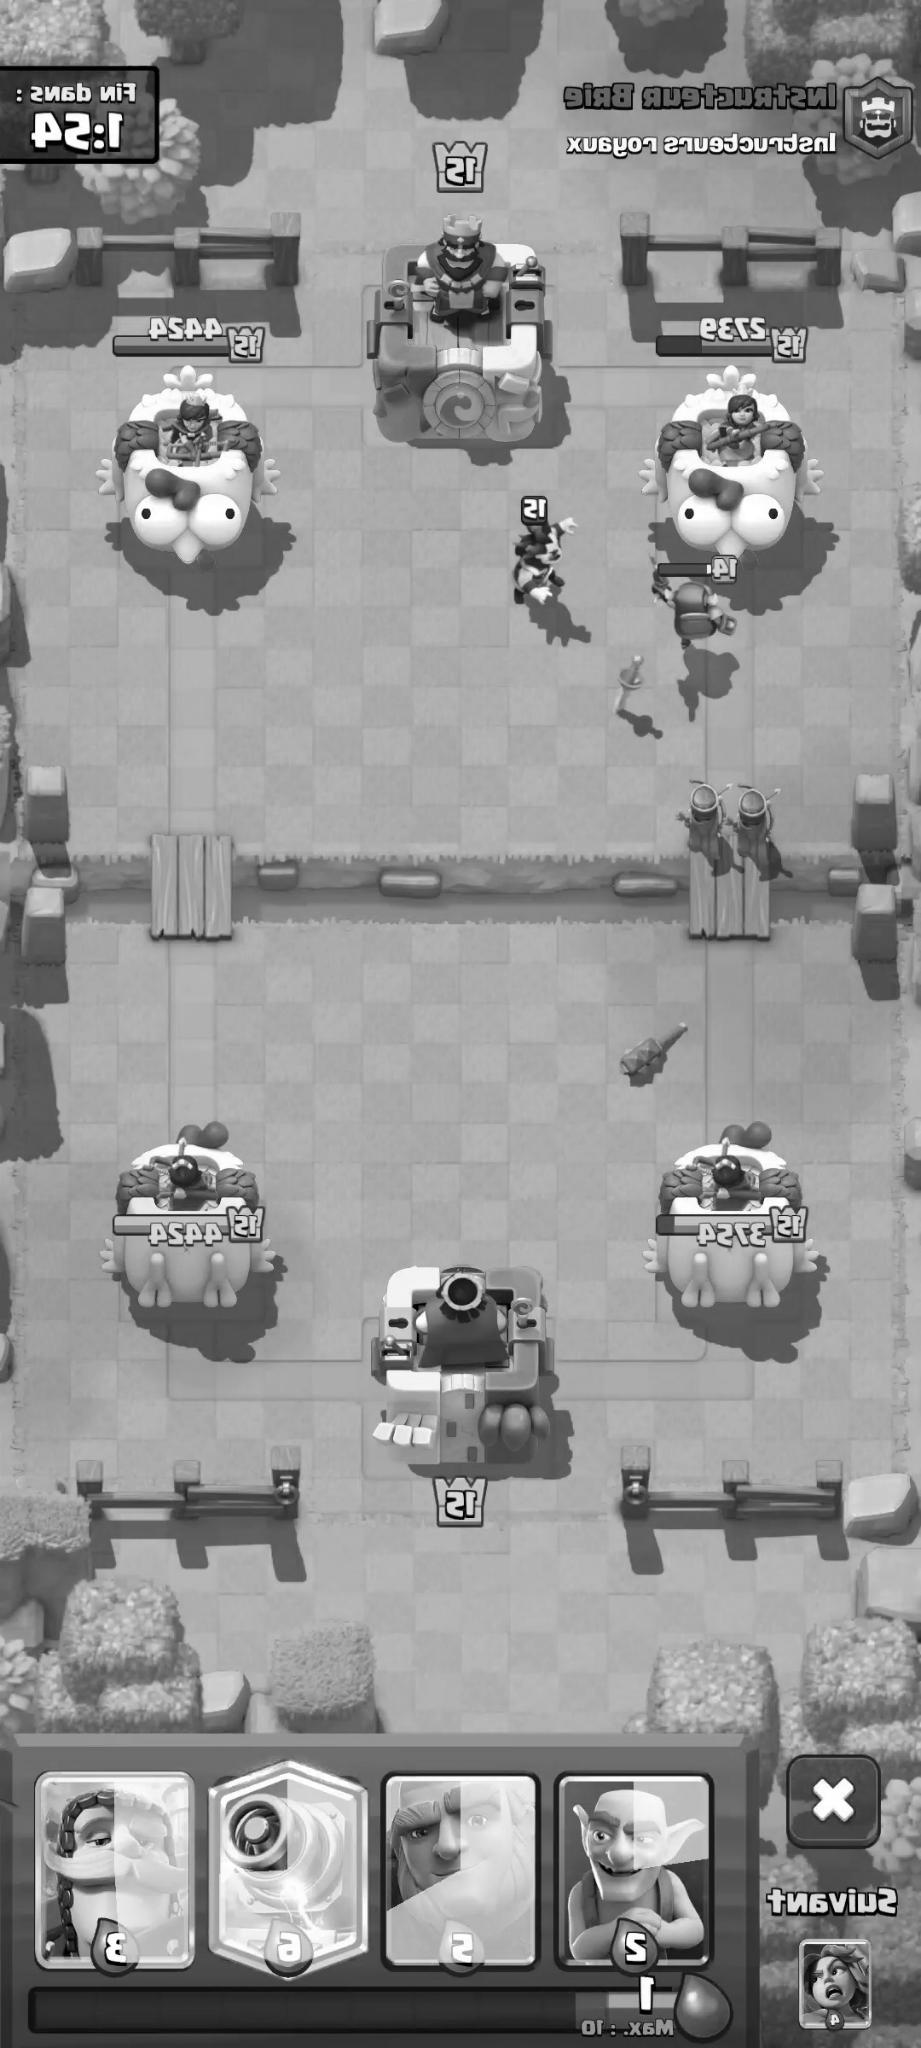archere: (662, 776, 726, 878), (726, 781, 788, 880)
mini_PEKKA: (639, 550, 749, 653)
